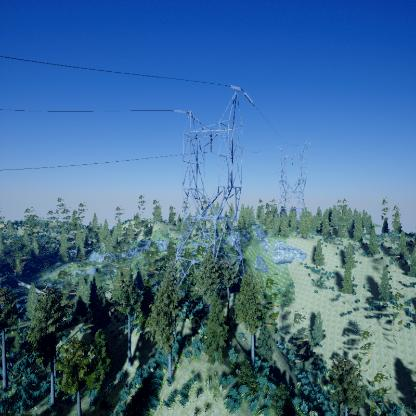tower: (169, 84, 255, 295), (273, 141, 312, 227)
